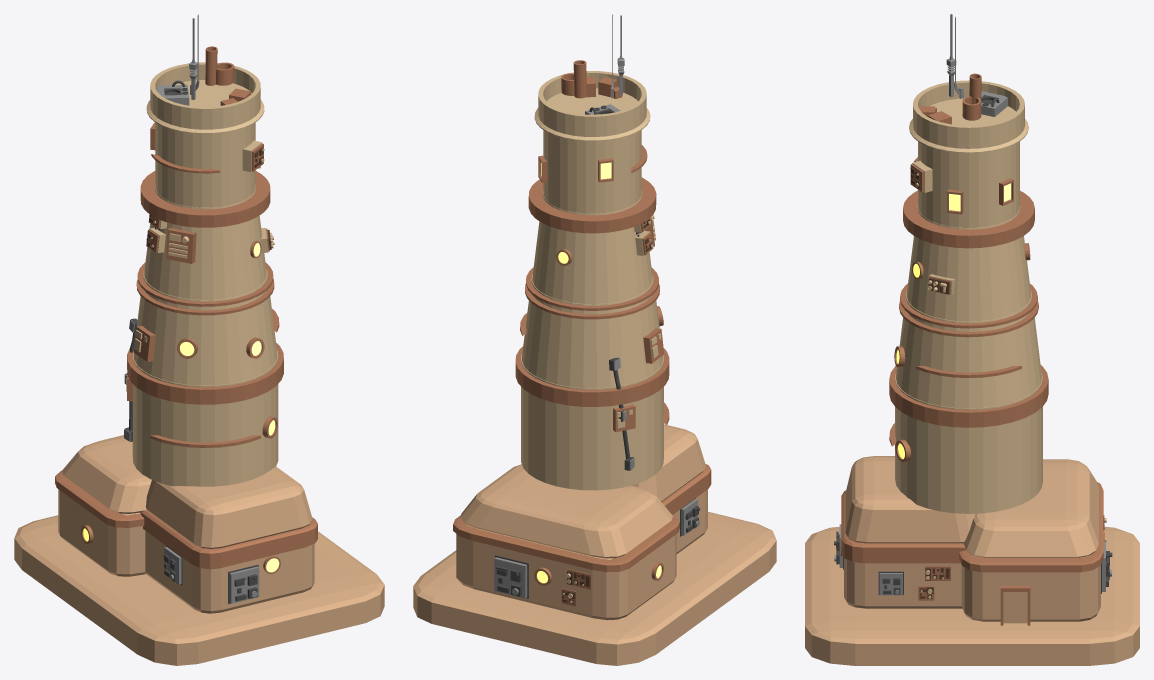
File: nomad_building_37.fbx
3 views of the same model, side by side, from view 1: azimuth 30°, elevation 25°; view 2: azimuth 150°, elevation 25°; view 3: azimuth 270°, elevation 25° (orthographic). The views are drawn at different scales.
Visible parts, largest first — view 1: B37_M_Foundation_square, B37_T_Drum0, B37_T_Drum1, B37_M_R01_square_roof_defualt, B37_T_Drum2, B37_T_Drum3, B37_M_Blk01_base, B37_T_Crown_RoofDeck_Ringwall, B37_M_R00_rect_base_roof_default, B37_M_Blk00_rect_base, B37_M_B01_Band_square_diameter_thich, B37_T_Ring20_TowerTrim_BandWide (+7 smaller); view 2: B37_M_Foundation_square, B37_M_R00_rect_base_roof_default, B37_T_Drum0, B37_T_Drum1, B37_M_Blk00_rect_base, B37_T_Drum2, B37_T_Drum3, B37_T_Crown_RoofDeck_Ringwall, B37_M_B00_Band_Cube021, B37_T_Ring20_TowerTrim_BandWide, B37_T_Ring00_TowerTrim_BandTall, B37_M_R01_square_roof_defualt (+5 smaller); view 3: B37_M_Foundation_square, B37_T_Drum0, B37_T_Drum1, B37_M_R00_rect_base_roof_default, B37_T_Drum2, B37_M_R01_square_roof_defualt, B37_T_Drum3, B37_M_Blk00_rect_base, B37_T_Crown_RoofDeck_Ringwall, B37_M_Blk01_base, B37_T_Ring00_TowerTrim_BandTall, B37_T_Ring20_TowerTrim_BandWide (+6 smaller).
Boxes of the visible parts, x1,y1,x2,y2 form: B37_M_Foundation_square: (14,515,384,665); B37_T_Drum0: (132,350,278,486); B37_T_Drum1: (133,269,277,385); B37_M_R01_square_roof_defualt: (146,466,312,549); B37_T_Drum2: (144,184,266,299); B37_T_Drum3: (155,122,255,207); B37_M_Blk01_base: (145,531,314,613); B37_T_Crown_RoofDeck_Ringwall: (146,62,264,134); B37_M_R00_rect_base_roof_default: (62,435,151,513); B37_M_Blk00_rect_base: (58,489,145,576); B37_M_B01_Band_square_diameter_thich: (140,510,317,569); B37_T_Ring20_TowerTrim_BandWide: (140,171,270,227); B37_M_Foundation_square: (413,512,776,665); B37_M_R00_rect_base_roof_default: (460,464,672,558); B37_T_Drum0: (521,353,663,490); B37_T_Drum1: (521,274,663,388); B37_M_Blk00_rect_base: (456,525,676,620); B37_T_Drum2: (532,190,652,304); B37_T_Drum3: (543,130,641,213); B37_T_Crown_RoofDeck_Ringwall: (534,71,650,141); B37_M_B00_Band_Cube021: (453,515,679,572); B37_T_Ring20_TowerTrim_BandWide: (528,177,656,233); B37_T_Ring00_TowerTrim_BandTall: (515,346,669,406); B37_M_R01_square_roof_defualt: (631,424,705,501); B37_M_Foundation_square: (805,526,1139,665); B37_T_Drum0: (895,373,1042,513); B37_T_Drum1: (895,290,1041,408); B37_M_R00_rect_base_roof_default: (963,459,1098,557); B37_T_Drum2: (906,205,1031,321); B37_M_R01_square_roof_defualt: (845,456,975,543); B37_T_Drum3: (918,141,1019,227); B37_M_Blk00_rect_base: (961,555,1100,621); B37_T_Crown_RoofDeck_Ringwall: (909,80,1028,153); B37_M_Blk01_base: (844,558,962,608); B37_T_Ring00_TowerTrim_BandTall: (889,365,1048,427); B37_T_Ring20_TowerTrim_BandWide: (903,190,1034,248).
Bounding box in the file's own units: 341 × 793 × 407.
